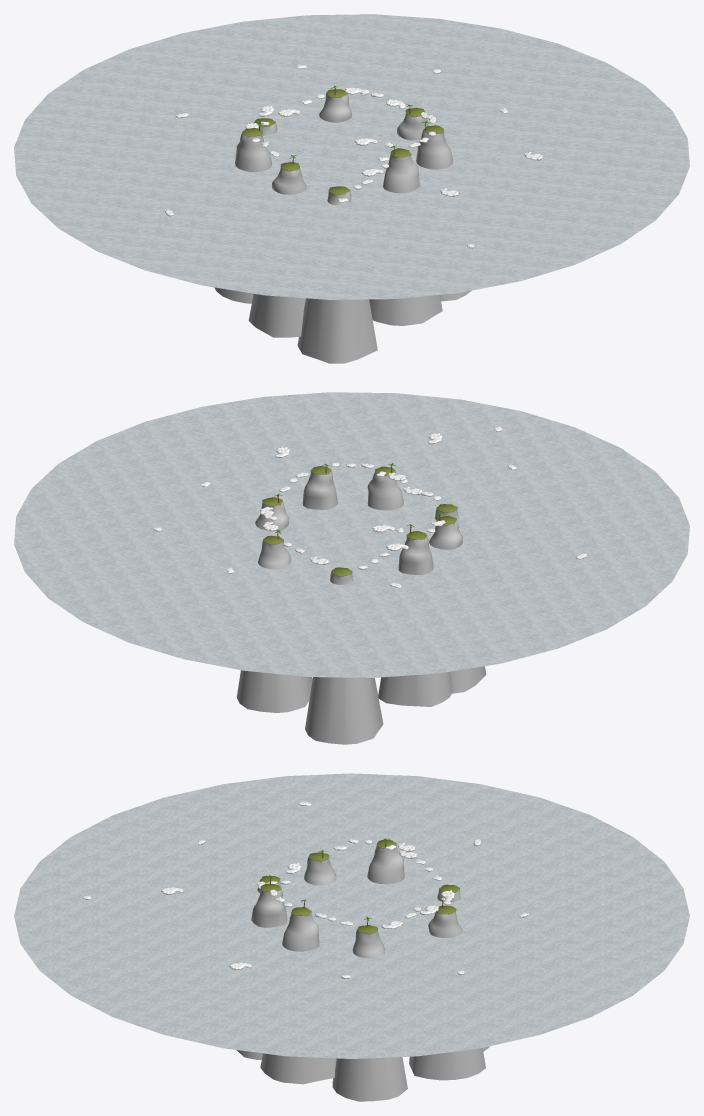
Rendered from wolken_2.fbx.
The picture shows the model from 3 angles, top to bottom: view 1: azimuth 30°, elevation 25°; view 2: azimuth 150°, elevation 25°; view 3: azimuth 270°, elevation 25°; orthographic projection.
Visible parts, largest first — view 1: wolkendecke, Circle, Circle.001, Circle.007, Circle.006, Circle.002, Circle.004, Circle.003; view 2: wolkendecke, Circle.005, Circle.004, Circle.006, Circle.007, Circle.002, Circle.001, Circle.003; view 3: wolkendecke, Circle.003, Circle.002, Circle.004, Circle.001, Circle.006, Circle.007.
Part boxes in pixels (left/top/right/bottom): wolkendecke: left=14, top=14, right=689, bottom=299; Circle: left=297, top=186, right=377, bottom=363; Circle.001: left=369, top=148, right=442, bottom=325; Circle.007: left=248, top=162, right=306, bottom=337; Circle.006: left=214, top=128, right=271, bottom=303; Circle.002: left=416, top=125, right=471, bottom=301; Circle.004: left=319, top=89, right=351, bottom=122; Circle.003: left=397, top=107, right=428, bottom=140; wolkendecke: left=14, top=392, right=689, bottom=677; Circle.005: left=305, top=567, right=383, bottom=744; Circle.004: left=236, top=535, right=312, bottom=712; Circle.006: left=378, top=531, right=452, bottom=706; Circle.007: left=429, top=516, right=486, bottom=693; Circle.002: left=302, top=466, right=337, bottom=509; Circle.001: left=367, top=466, right=403, bottom=510; Circle.003: left=255, top=497, right=288, bottom=530; wolkendecke: left=14, top=773, right=689, bottom=1058; Circle.003: left=332, top=925, right=407, bottom=1101; Circle.002: left=260, top=907, right=336, bottom=1084; Circle.004: left=409, top=905, right=485, bottom=1080; Circle.001: left=236, top=883, right=287, bottom=1059; Circle.006: left=367, top=839, right=404, bottom=884; Circle.007: left=304, top=852, right=336, bottom=885.
Bounding box in the file's own units: 68530 × 21142 × 68530.
